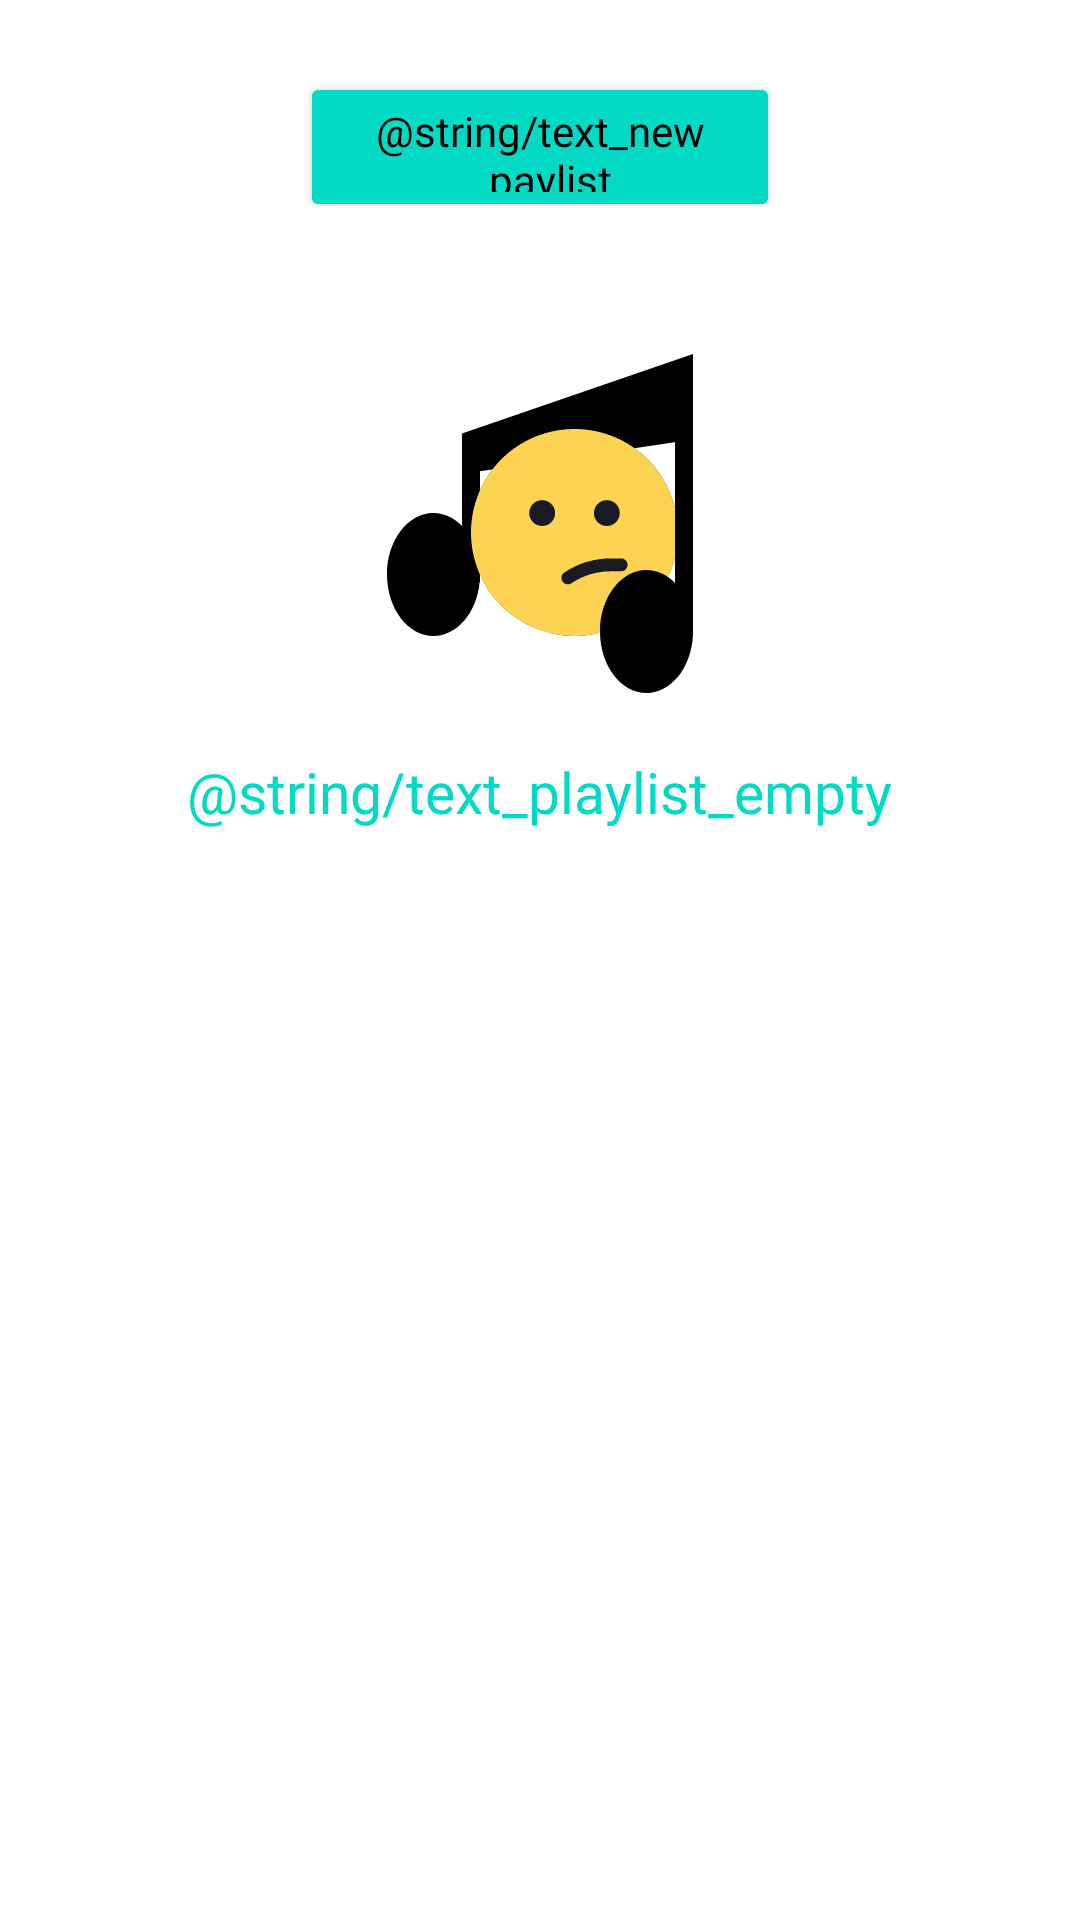

Named icons in this screenshot (1080 x 1920) and their bounding boxes, bbox=[x1, y1, x2, y2]:
nothing found: bbox=[387, 354, 693, 693]
